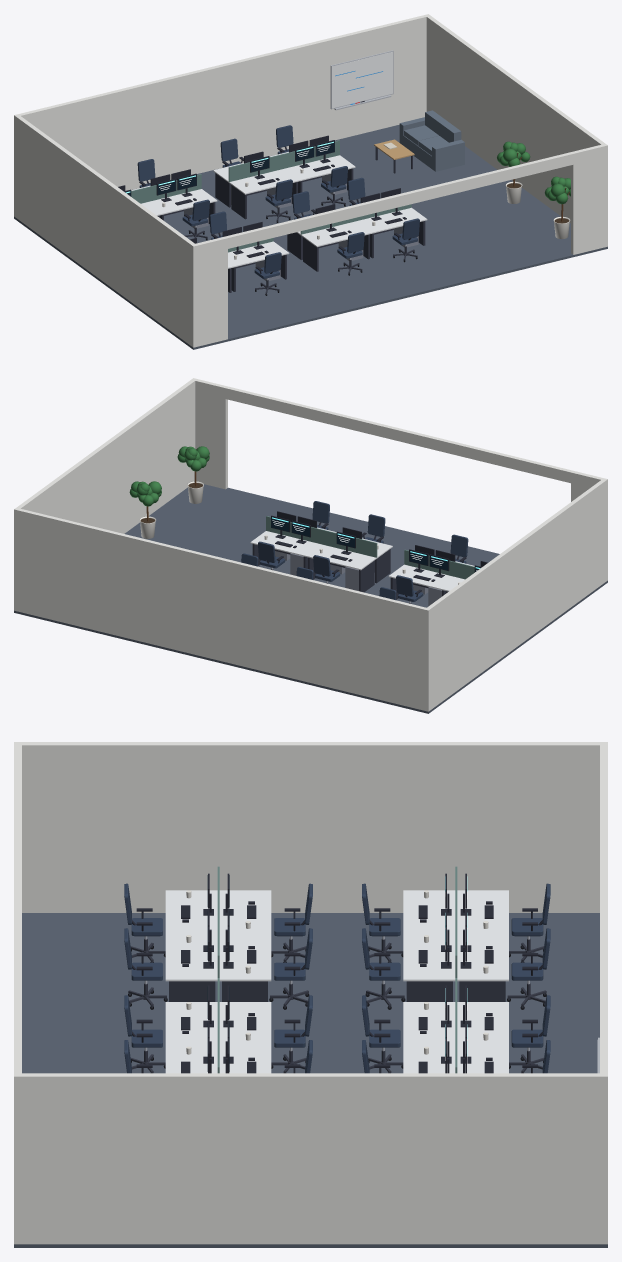
The picture shows the model from 3 angles, top to bottom: view 1: azimuth 30°, elevation 25°; view 2: azimuth 150°, elevation 25°; view 3: azimuth 270°, elevation 25°; orthographic projection. The views are drawn at different scales.
Parts seen in each view (by area): view 1: office_wall, office_carpet, white, chair_fabric, dark_steel, plastic_dark, sofa_fabric, felt_divider, leaf, monitor_screen, locker_grey, ceramic_white (+1 smaller); view 2: office_wall, office_carpet, chair_fabric, white, plastic_dark, felt_divider, dark_steel, leaf, monitor_screen, locker_grey, ceramic_white; view 3: office_wall, office_carpet, white, chair_fabric, plastic_dark, dark_steel, felt_divider.
Part boxes in pixels (x1,y1,x2,y2): office_wall: (14,14,607,347); office_carpet: (14,124,607,349); white: (131,51,427,268); chair_fabric: (137,125,419,278); dark_steel: (157,147,425,294); plastic_dark: (118,101,411,273); sofa_fabric: (399,110,464,171); felt_divider: (131,140,411,252); leaf: (497,141,570,204); monitor_screen: (125,141,334,196); locker_grey: (184,174,418,280); ceramic_white: (162,168,570,259); office_wall: (14,378,607,711); office_carpet: (14,484,607,713); chair_fabric: (241,501,468,601); white: (250,527,474,591); plastic_dark: (266,511,487,597); felt_divider: (266,516,474,579); dark_steel: (252,544,448,603); leaf: (129,446,209,506); monitor_screen: (271,516,480,571); locker_grey: (275,551,441,606); ceramic_white: (139,481,460,584); office_wall: (14,742,607,1244); office_carpet: (14,913,607,1247); white: (165,890,597,1073); chair_fabric: (124,883,550,1073); plastic_dark: (132,873,542,1073); dark_steel: (128,938,546,1073); felt_divider: (217,866,457,1073).
Size of the model in its own units: 12 by 2.86 by 9.
